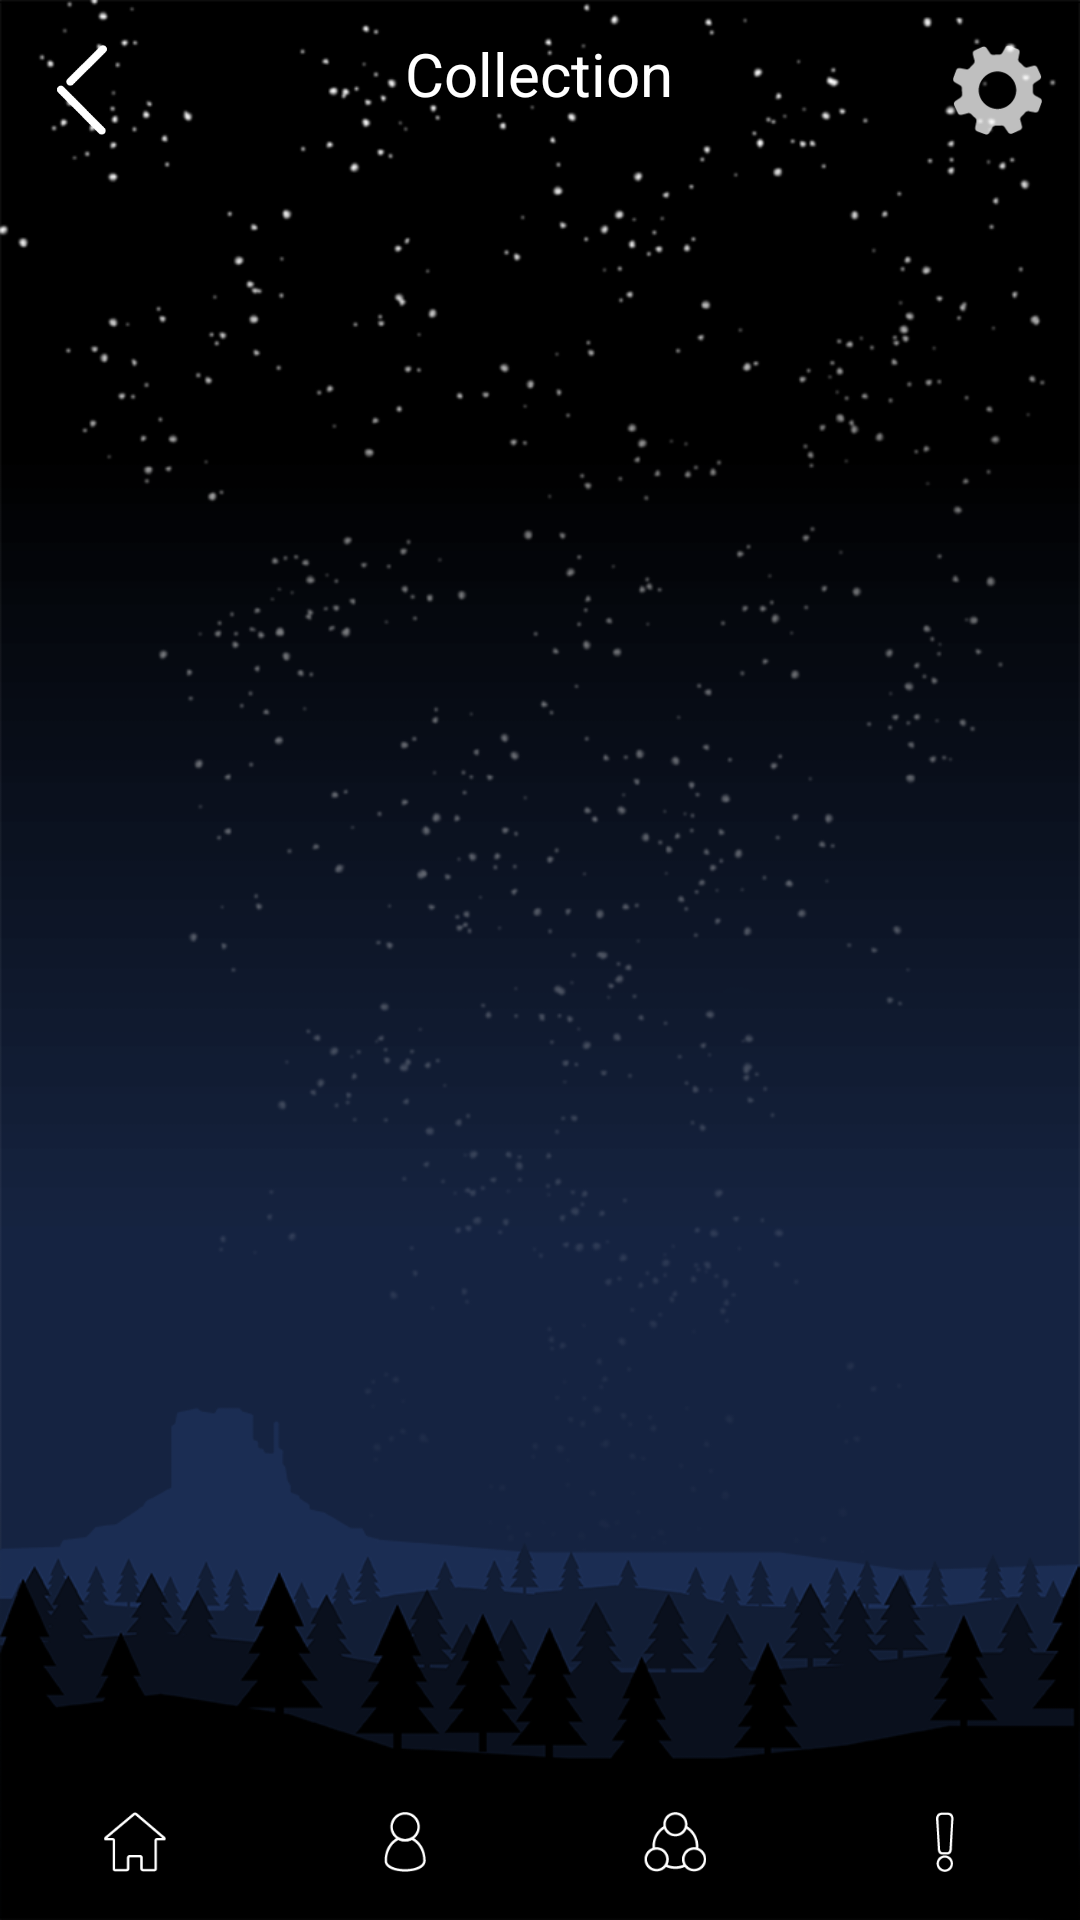

Named icons in this screenshot (1080*1920) and their centers, [x,y]:
back: [95,90]
community unfilled: [675,1842]
home unfilled: [135,1842]
profile unfilled: [405,1842]
quest unfilled: [945,1842]
settings: [1000,90]
